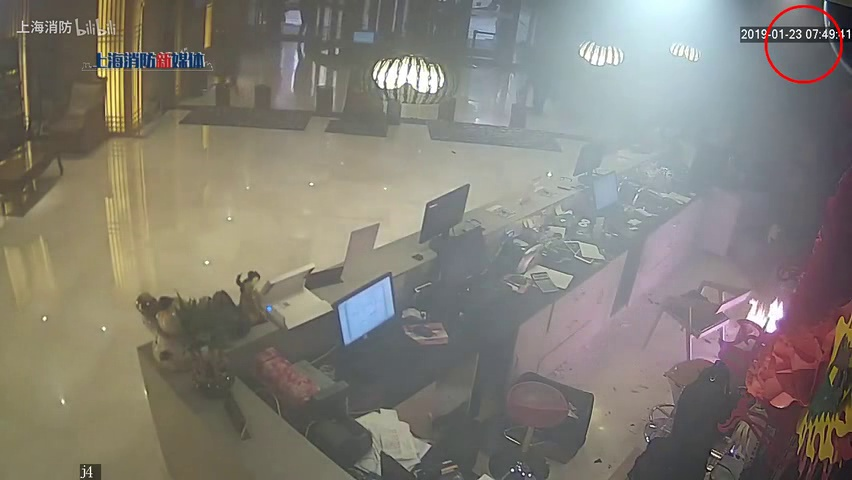fire: (744, 297, 787, 334)
